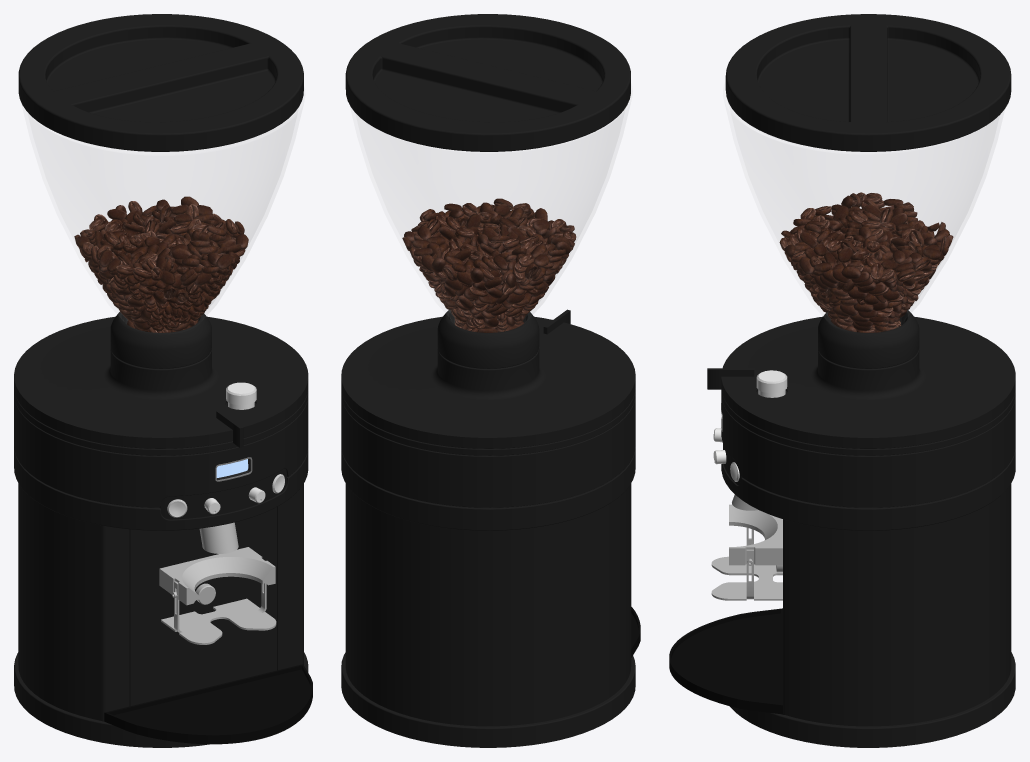
Rendered from coffee_grinder.glb.
3 renders of one model, left to right at view 1: azimuth 30°, elevation 25°; view 2: azimuth 150°, elevation 25°; view 3: azimuth 270°, elevation 25°, orthographic.
Parts seen in each view (by area): view 1: Slice, Cylinder.009, Cylinder.001, Cylinder.006, Circle.004; view 2: Slice, Cylinder.009, Cylinder.001; view 3: Slice, Cylinder.009, Cylinder.001, Cylinder.006, Circle.004.
Boxes of the visible parts, bbox=[...] form: Slice: bbox=[14, 312, 308, 747]; Cylinder.009: bbox=[18, 14, 303, 151]; Cylinder.001: bbox=[27, 108, 298, 321]; Cylinder.006: bbox=[104, 664, 312, 744]; Circle.004: bbox=[159, 382, 284, 644]; Slice: bbox=[341, 309, 635, 747]; Cylinder.009: bbox=[345, 14, 630, 151]; Cylinder.001: bbox=[355, 108, 625, 323]; Slice: bbox=[707, 310, 1015, 747]; Cylinder.009: bbox=[725, 14, 1011, 151]; Cylinder.001: bbox=[729, 105, 999, 324]; Cylinder.006: bbox=[669, 608, 782, 714]; Circle.004: bbox=[711, 370, 787, 600].
Bounding box in the file's own units: 10.12 × 23.24 × 11.92.
Materials: 10 (1 with a texture image).
